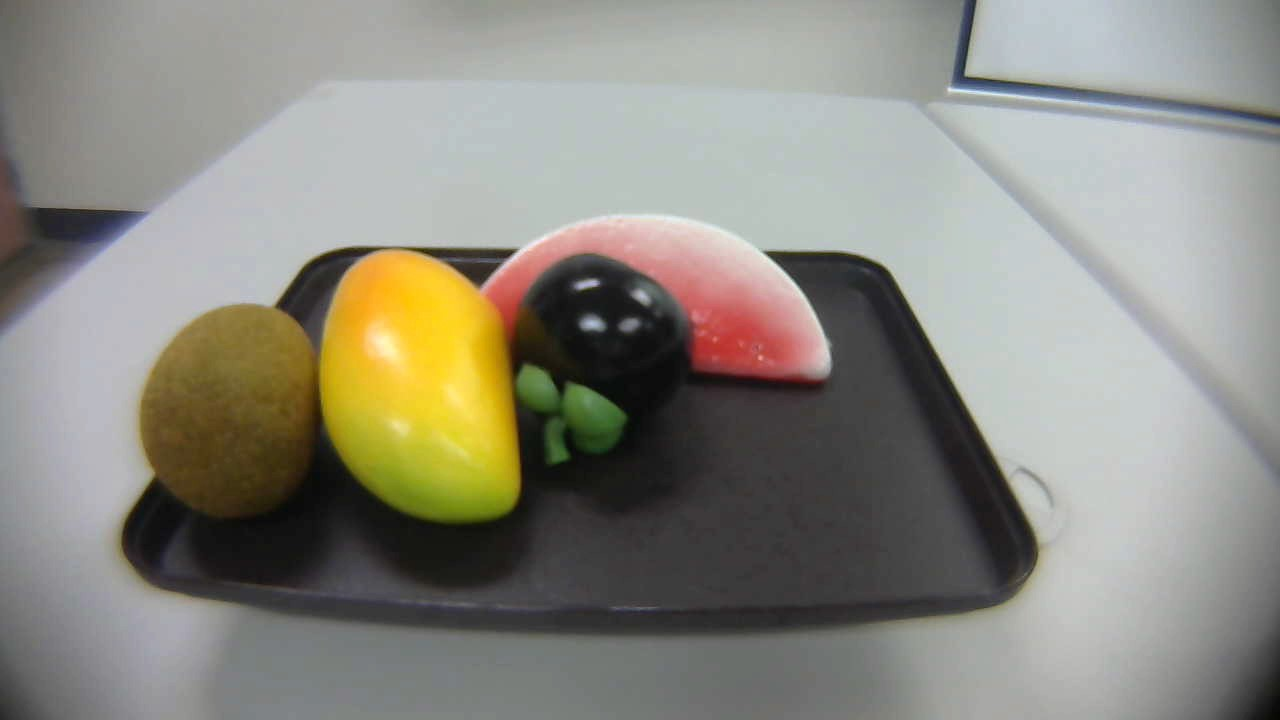kiwi fruit: (135, 294, 324, 517)
mangosteen: (496, 248, 702, 460)
water melon: (477, 209, 838, 396)
yellow mango: (313, 239, 535, 541)
